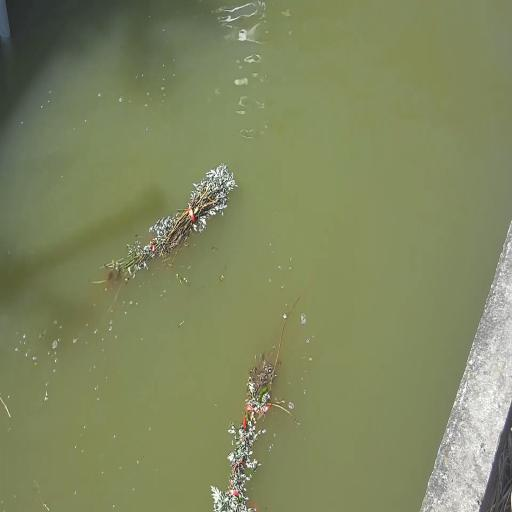twig: (211, 278, 311, 511), (92, 164, 237, 283)
